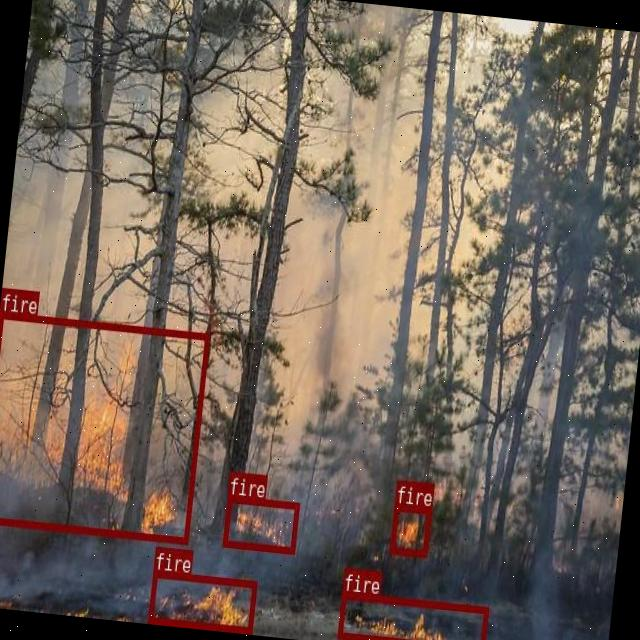fire: (0, 309, 208, 543), (336, 590, 487, 640), (147, 569, 255, 631), (221, 494, 299, 552), (389, 504, 431, 556)
